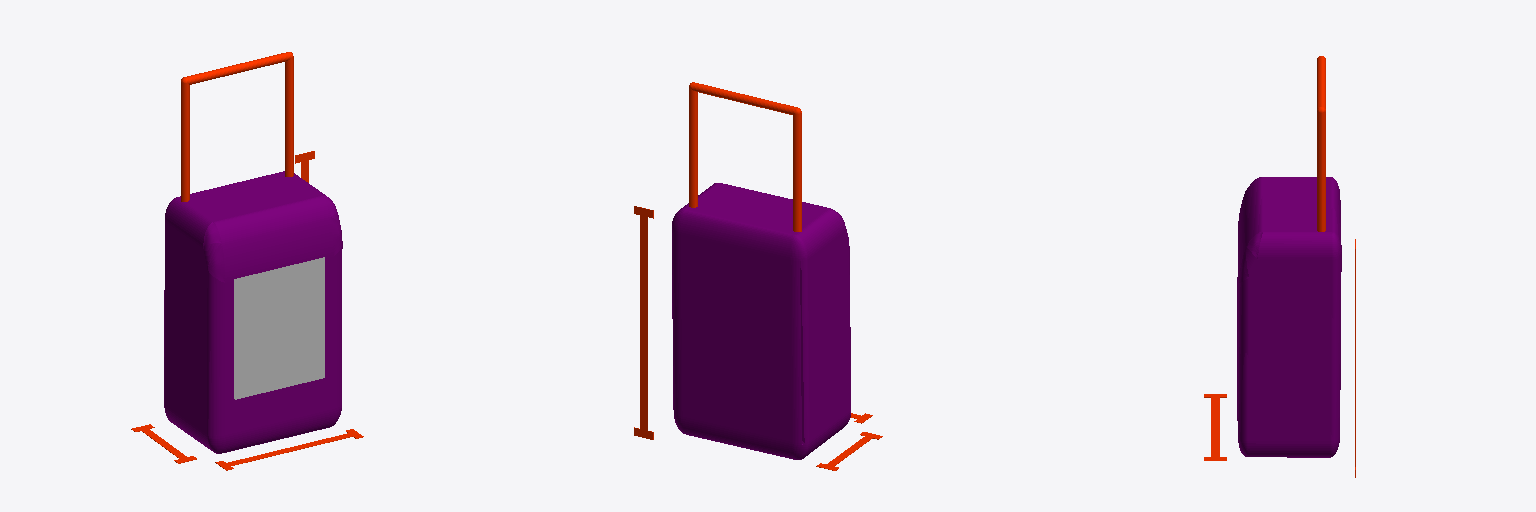
Rendered from suitcase.obj.
3 renders of one model, left to right at view 1: azimuth 30°, elevation 25°; view 2: azimuth 150°, elevation 25°; view 3: azimuth 270°, elevation 25°, orthographic.
Parts seen in each view (by area): view 1: Cube, logo_Untitled-2-01, handle_Sphere, ruler_y_Plane.007; view 2: Cube, handle_Sphere, ruler_z_Plane.002; view 3: Cube, handle_Sphere, ruler_y_Plane.007.
Part boxes in pixels (left/top/right/bottom): Cube: left=164, top=171, right=342, bottom=453; logo_Untitled-2-01: left=234, top=257, right=324, bottom=399; handle_Sphere: left=181, top=52, right=293, bottom=201; ruler_y_Plane.007: left=215, top=429, right=363, bottom=470; Cube: left=672, top=183, right=850, bottom=459; handle_Sphere: left=689, top=82, right=801, bottom=231; ruler_z_Plane.002: left=634, top=206, right=653, bottom=439; Cube: left=1237, top=177, right=1341, bottom=457; handle_Sphere: left=1317, top=56, right=1325, bottom=231; ruler_y_Plane.007: left=1204, top=394, right=1226, bottom=460.
Size of the model in its own units: 0.4995 by 0.8708 by 0.3395.